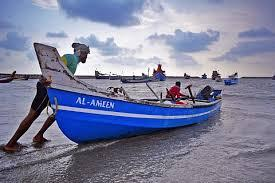fishing boat: (29, 40, 226, 149), (120, 71, 151, 83), (151, 61, 167, 82), (223, 68, 241, 86), (183, 71, 192, 80), (201, 70, 209, 80)
